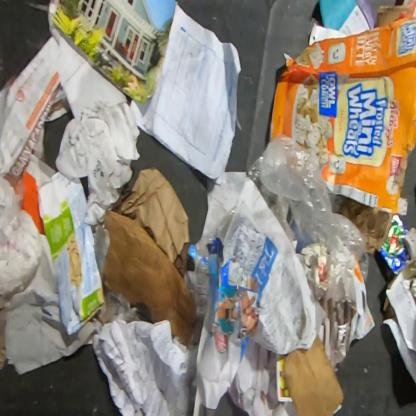cardboard: (268, 3, 415, 215), (102, 208, 196, 346), (187, 236, 260, 340), (282, 332, 345, 415)
metal: (380, 221, 412, 276)
rigid_plastic: (246, 152, 291, 231), (196, 206, 238, 256)
soft_plastic: (259, 134, 369, 288)
